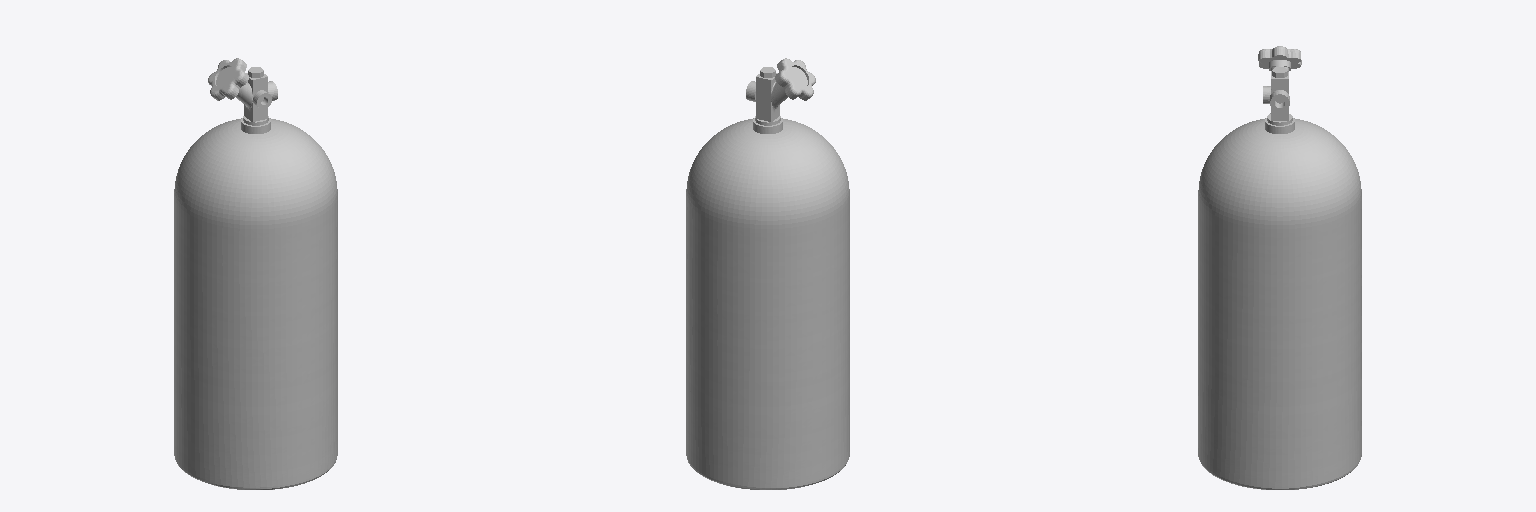
The model's file is nitro.obj.
3 renders of one model, left to right at view 1: azimuth 30°, elevation 25°; view 2: azimuth 150°, elevation 25°; view 3: azimuth 270°, elevation 25°, orthographic.
Visible parts, largest first — view 1: Retopo_small_bottle_and_valve.001, Retopo_small_bottle_and_valve; view 2: Retopo_small_bottle_and_valve.001, Retopo_small_bottle_and_valve; view 3: Retopo_small_bottle_and_valve.001, Retopo_small_bottle_and_valve.
Boxes of the visible parts, x1=… form: Retopo_small_bottle_and_valve.001: x1=174, y1=118, x2=337, y2=489; Retopo_small_bottle_and_valve: x1=208, y1=58, x2=277, y2=133; Retopo_small_bottle_and_valve.001: x1=686, y1=118, x2=849, y2=489; Retopo_small_bottle_and_valve: x1=746, y1=58, x2=815, y2=133; Retopo_small_bottle_and_valve.001: x1=1198, y1=118, x2=1361, y2=489; Retopo_small_bottle_and_valve: x1=1258, y1=46, x2=1301, y2=133.
Size of the model in its own units: 1.61 by 4.37 by 1.61.